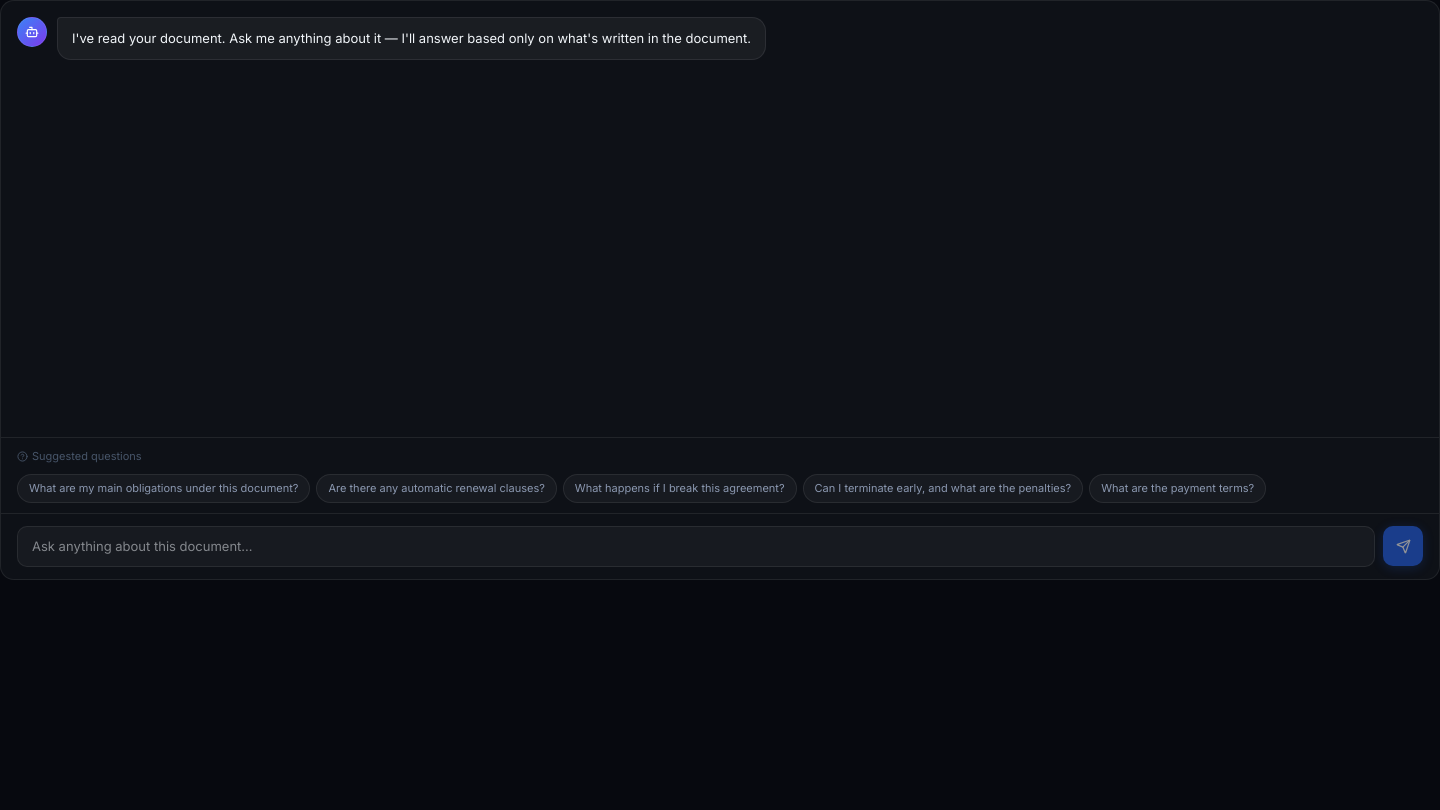
ChatInterface › displays the AI response after submit
Type "What is the term?" into the field with placeholder "Ask anything about this document…" at [696, 547], box [17,526,1375,567]
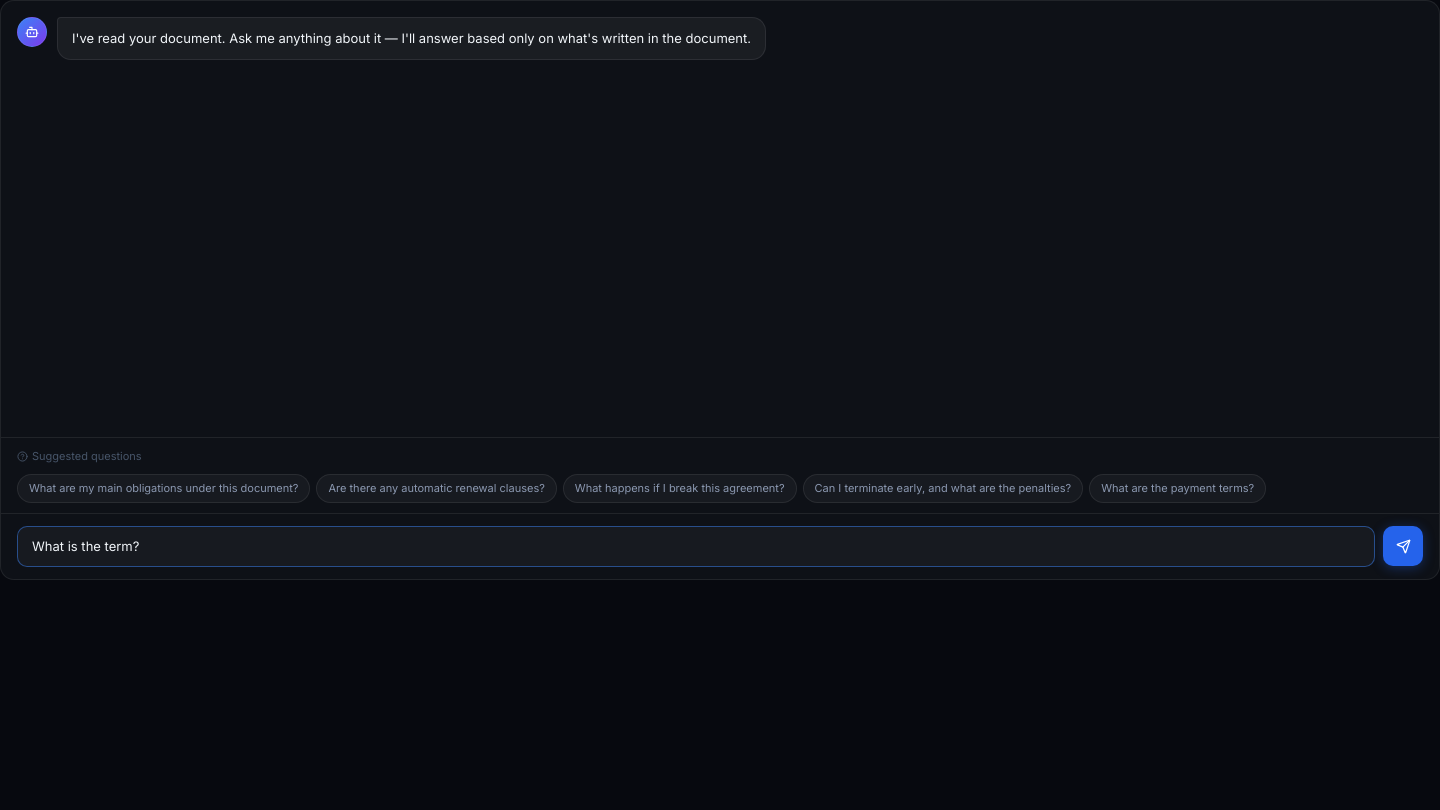
Click the button named "Send question" at [1403, 546], box [1383,526,1423,566]
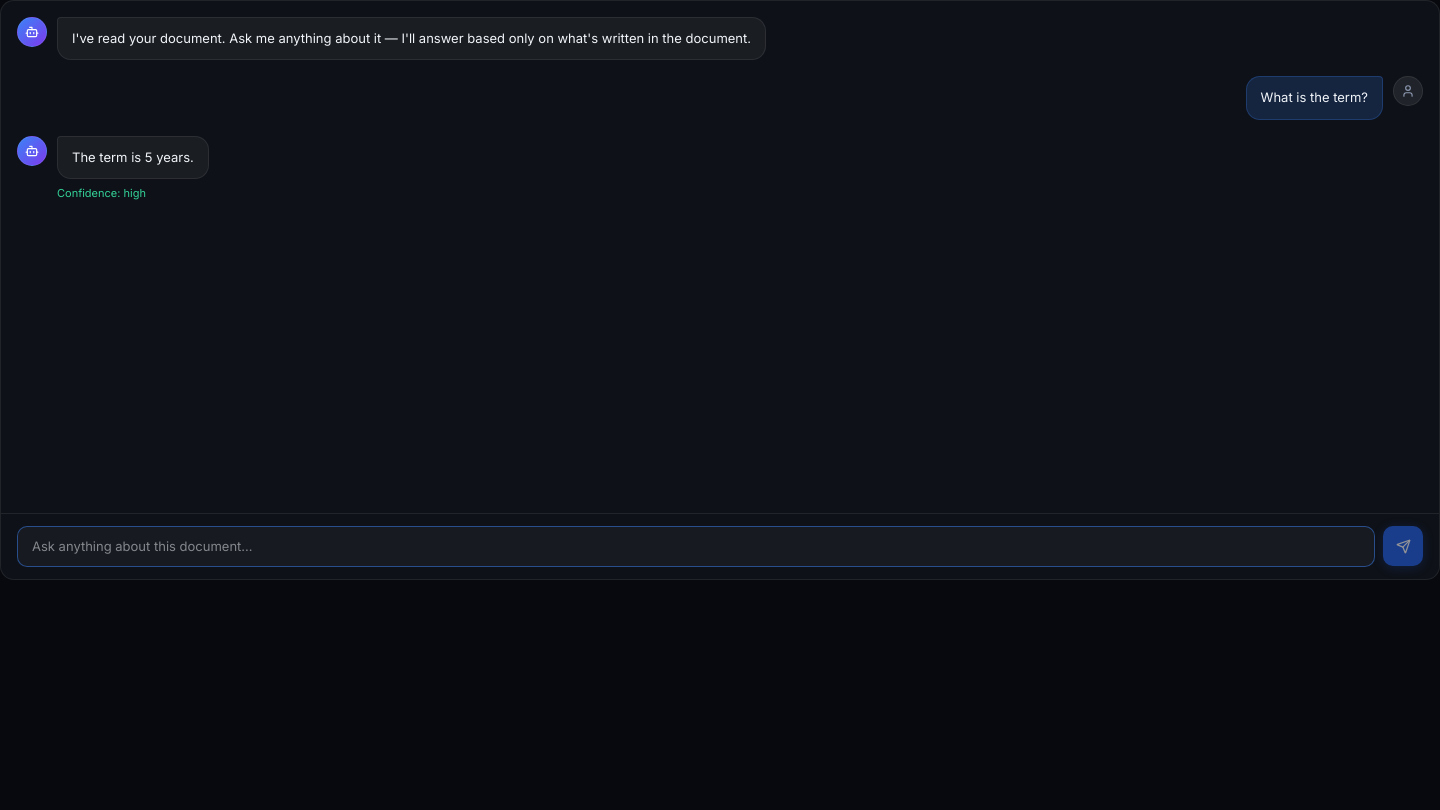
Check: the text "The term is 5 years." is shown, box [57,136,209,179]
